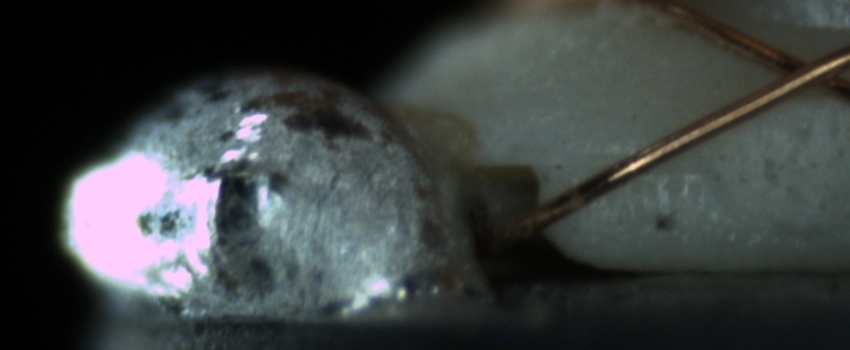CL: (750, 38, 848, 103)
DL: (572, 135, 700, 194)
